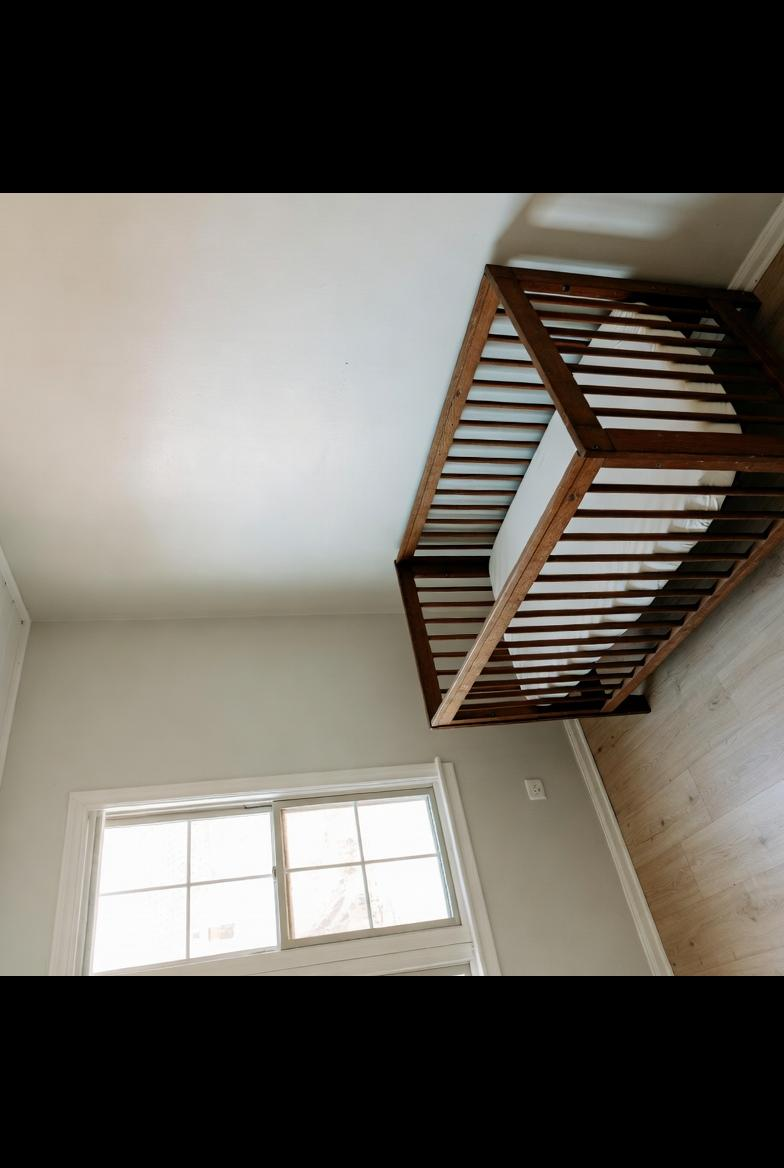crib: (396, 265, 784, 727)
